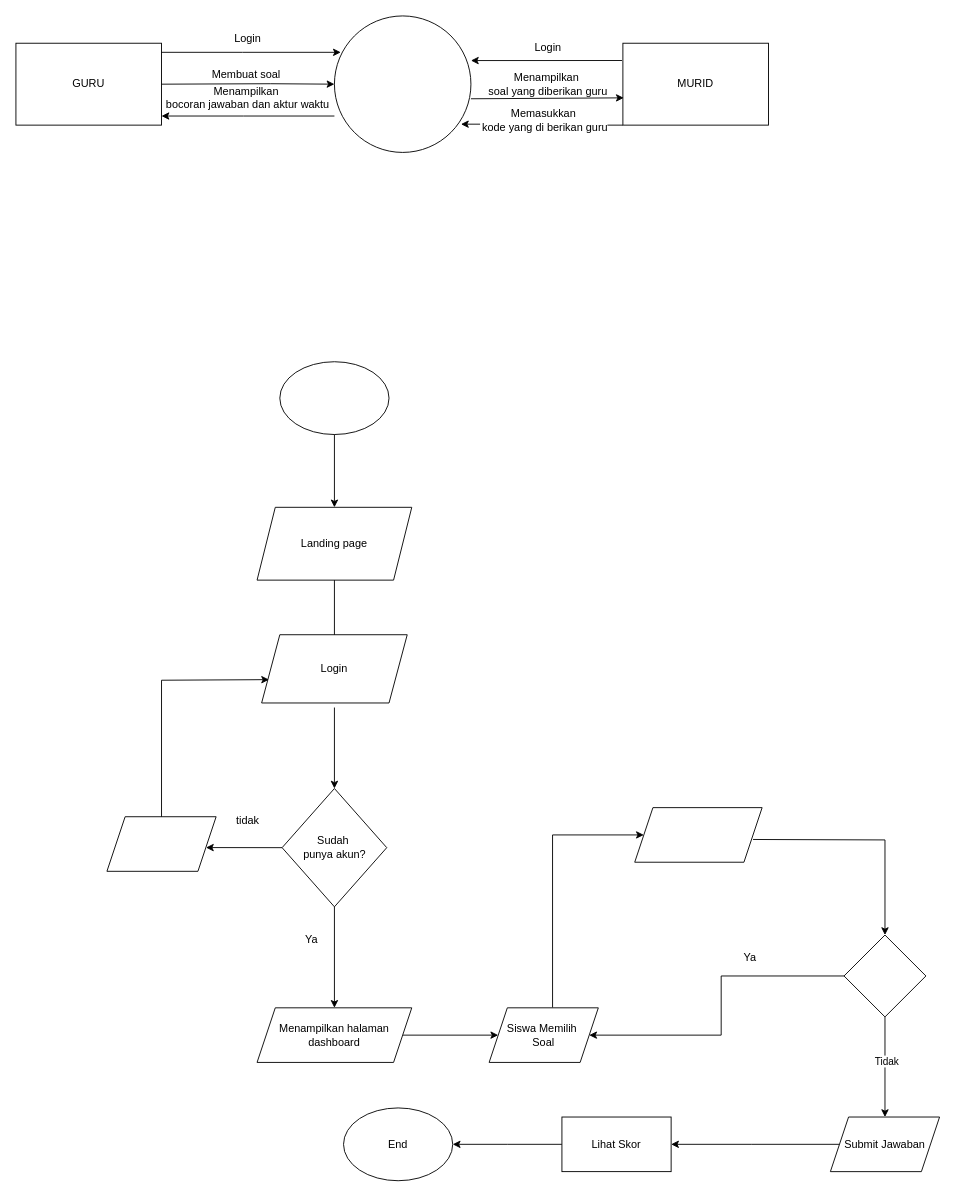
Image size: 956x1197. Some labels were removed from this diagram. The centre of each missing label's shape, as x and y in pixels:
"Pengembangan Sistem Ujian Berbasis Game" goes at [402,83].
"Register" goes at [161,843].
"Siswa Mengerjakan Soal" goes at [698,834].
"Start" goes at [334,398].
"Waktu Habis?" goes at [884,975].
